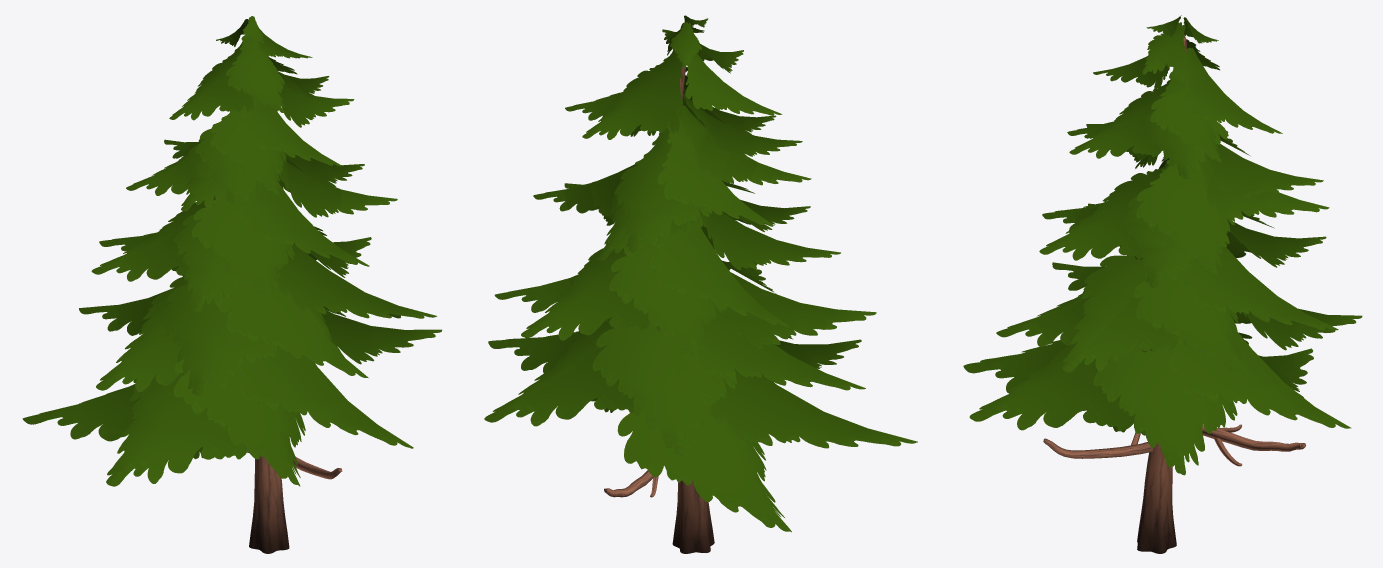
File: n_Pine_2.glb
3 views of the same model, side by side, from view 1: azimuth 30°, elevation 25°; view 2: azimuth 150°, elevation 25°; view 3: azimuth 270°, elevation 25° (orthographic). The views are drawn at different scales.
Parts seen in each view (by area): view 1: Pine_2; view 2: Pine_2; view 3: Pine_2.
Boxes of the visible parts, left/top/right/bottom form: Pine_2: left=22, top=16, right=441, bottom=553; Pine_2: left=484, top=15, right=917, bottom=553; Pine_2: left=963, top=15, right=1362, bottom=553.
Size of the model in its own units: 5.73 by 7.38 by 5.22.
Materials: 2 (2 with a texture image).
